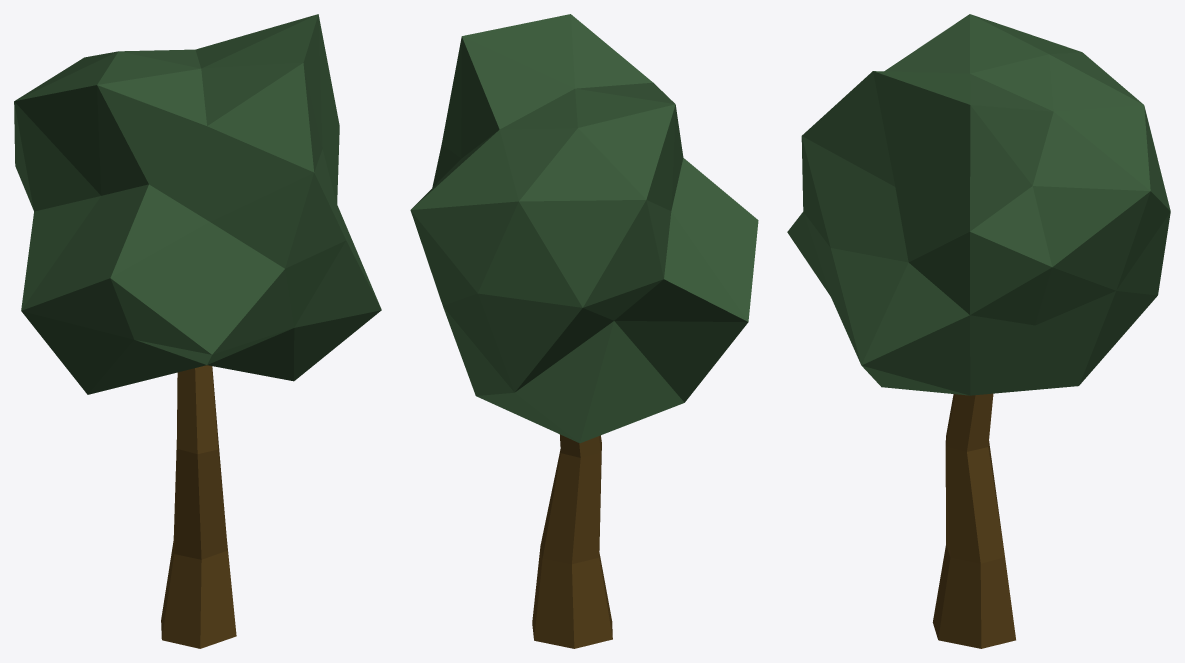
File: green tree 1.fbx
3 renders of one model, left to right at view 1: azimuth 30°, elevation 25°; view 2: azimuth 150°, elevation 25°; view 3: azimuth 270°, elevation 25°, orthographic. The views are drawn at different scales.
Parts seen in each view (by area): view 1: pasted__pPlatonic5, pasted__pCylinder2; view 2: pasted__pPlatonic5, pasted__pCylinder2; view 3: pasted__pPlatonic5, pasted__pCylinder2.
Boxes of the visible parts, x1,y1,x2,y2 form: pasted__pPlatonic5: [14, 14, 381, 394]; pasted__pCylinder2: [161, 365, 236, 648]; pasted__pPlatonic5: [410, 14, 758, 443]; pasted__pCylinder2: [532, 434, 612, 648]; pasted__pPlatonic5: [787, 14, 1170, 395]; pasted__pCylinder2: [932, 393, 1015, 648].
Size of the model in its own units: 37.79 by 66.96 by 39.65.
